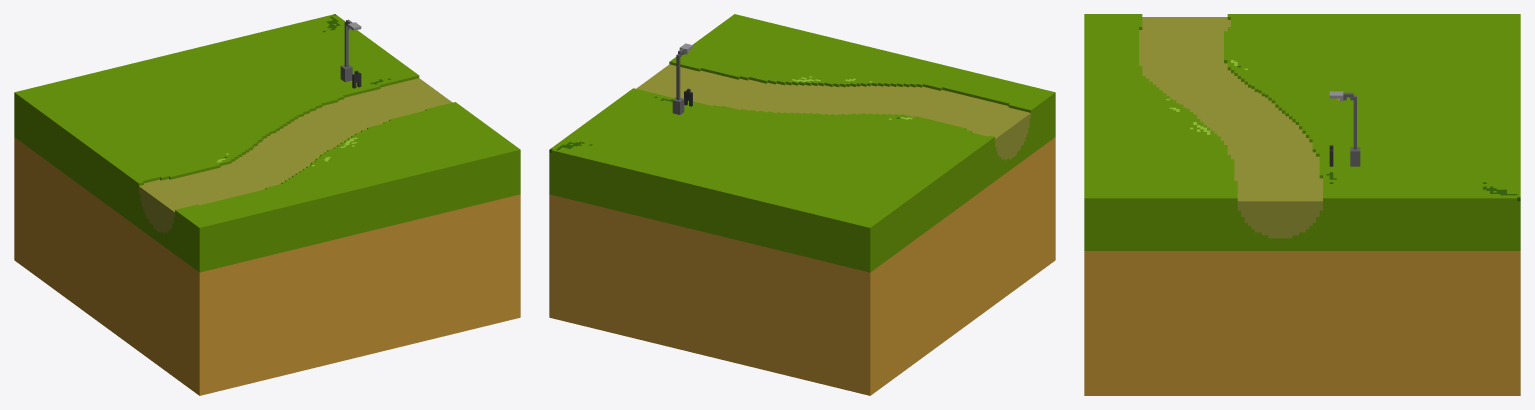
3 views of the same model, side by side, from view 1: azimuth 30°, elevation 25°; view 2: azimuth 150°, elevation 25°; view 3: azimuth 270°, elevation 25° (orthographic). The views are drawn at different scales.
Visible parts, largest first — view 1: 7D.001; view 2: 7D.001; view 3: 7D.001.
Part boxes in pixels (x1,y1,x2,y2): 7D.001: (14, 14, 520, 395); 7D.001: (549, 14, 1055, 395); 7D.001: (1084, 14, 1520, 395).
Bounding box in the file's own units: 12.8 × 8.7 × 12.8.
Materials: 1 (1 with a texture image).
